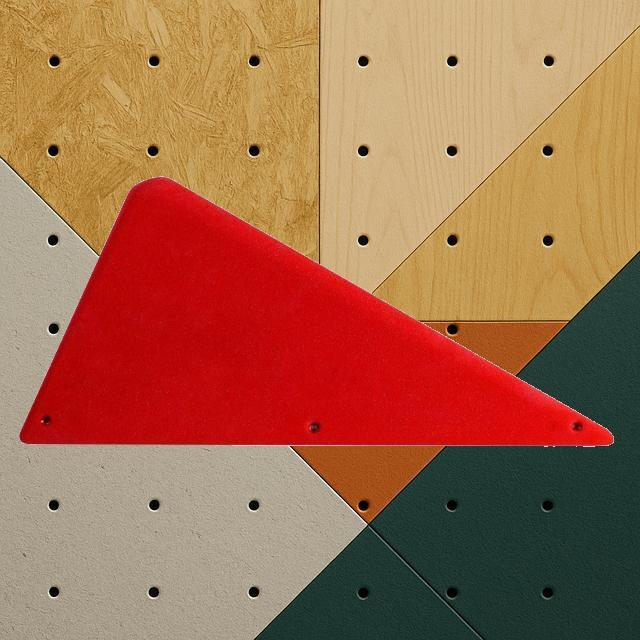Crimp: (18, 175, 614, 448)
